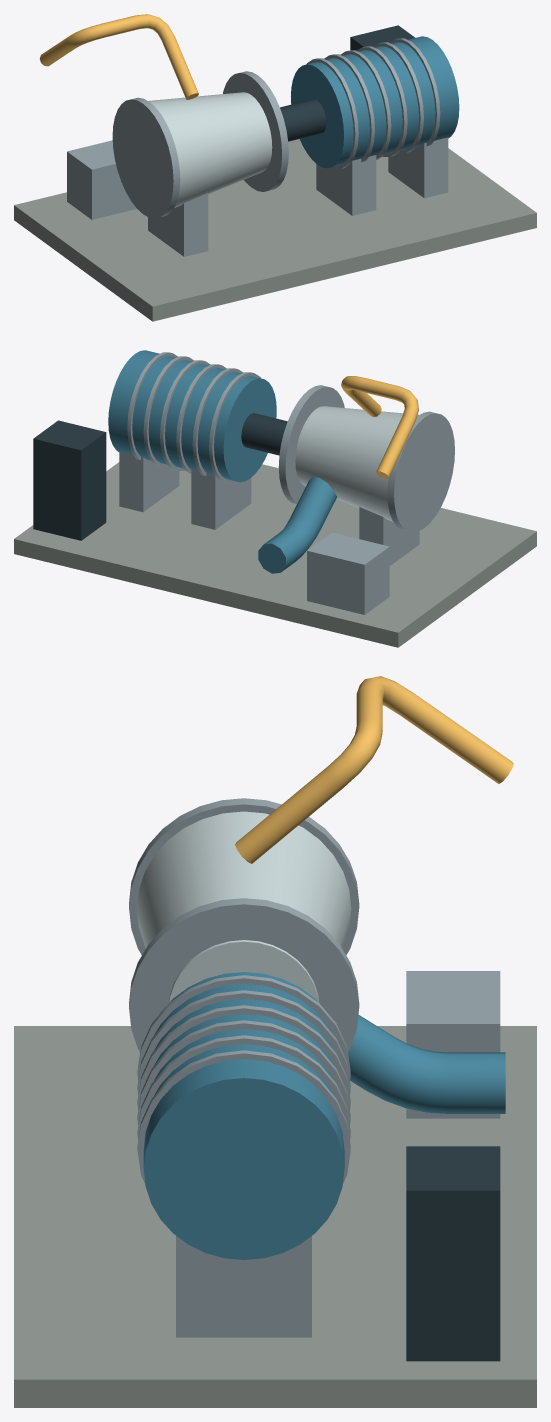
The model's file is 064_steam_turbine.glb.
3 renders of one model, top to bottom at view 1: azimuth 30°, elevation 25°; view 2: azimuth 150°, elevation 25°; view 3: azimuth 270°, elevation 25°, orthographic. The views are drawn at different scales.
Visible parts, largest first — view 1: TurbineGeneratorSkid, ACGenerator, SteamTurbineCasing, SplitCasingFlange, LubeOilSystem, LiveSteamInlet, SplitCasingFlange.001, BearingPedestal.001, BearingPedestal.002, BearingPedestal, ShaftCoupling, GeneratorTerminalBox (+6 smaller); view 2: TurbineGeneratorSkid, ACGenerator, SteamTurbineCasing, GeneratorTerminalBox, SplitCasingFlange, LubeOilSystem, TurbineExhaust, LiveSteamInlet, BearingPedestal.001, BearingPedestal.002, SplitCasingFlange.001, BearingPedestal (+7 smaller); view 3: TurbineGeneratorSkid, ACGenerator, SteamTurbineCasing, GeneratorTerminalBox, SplitCasingFlange.001, BearingPedestal.002, LiveSteamInlet, TurbineExhaust, LubeOilSystem, SplitCasingFlange, GeneratorCoolingFin.005, GeneratorCoolingFin.003 (+4 smaller).
Part boxes in pixels (x1,y1,x2,y2): TurbineGeneratorSkid: (14, 139, 536, 321); ACGenerator: (291, 36, 459, 168); SteamTurbineCasing: (148, 92, 272, 207); SplitCasingFlange: (112, 97, 180, 218); LubeOilSystem: (67, 140, 136, 219); LiveSteamInlet: (40, 14, 198, 99); SplitCasingFlange.001: (223, 71, 288, 191); BearingPedestal.001: (316, 155, 376, 215); BearingPedestal.002: (388, 137, 448, 198); BearingPedestal: (148, 193, 208, 256); ShaftCoupling: (280, 99, 326, 141); GeneratorTerminalBox: (350, 25, 415, 50); TurbineGeneratorSkid: (14, 462, 536, 647); ACGenerator: (108, 350, 276, 482); SteamTurbineCasing: (295, 406, 419, 521); GeneratorTerminalBox: (33, 420, 106, 540); SplitCasingFlange: (387, 411, 454, 532); LubeOilSystem: (307, 532, 389, 614); TurbineExhaust: (258, 477, 337, 573); LiveSteamInlet: (341, 376, 418, 478); BearingPedestal.001: (191, 469, 251, 529); BearingPedestal.002: (119, 451, 179, 512); SplitCasingFlange.001: (278, 385, 344, 503); BearingPedestal: (359, 507, 419, 565); TurbineGeneratorSkid: (14, 1026, 536, 1407); ACGenerator: (143, 972, 344, 1259); SteamTurbineCasing: (137, 811, 351, 1002); GeneratorTerminalBox: (406, 1146, 500, 1361); SplitCasingFlange.001: (129, 898, 359, 1052); BearingPedestal.002: (176, 1236, 311, 1337); LiveSteamInlet: (235, 676, 513, 863); TurbineExhaust: (348, 1015, 505, 1113); LubeOilSystem: (406, 971, 500, 1118); SplitCasingFlange: (129, 798, 359, 955); GeneratorCoolingFin.005: (137, 1050, 350, 1183); GeneratorCoolingFin.003: (137, 1020, 350, 1124).
Size of the model in its own units: 0.4 by 0.2165 by 0.25.
